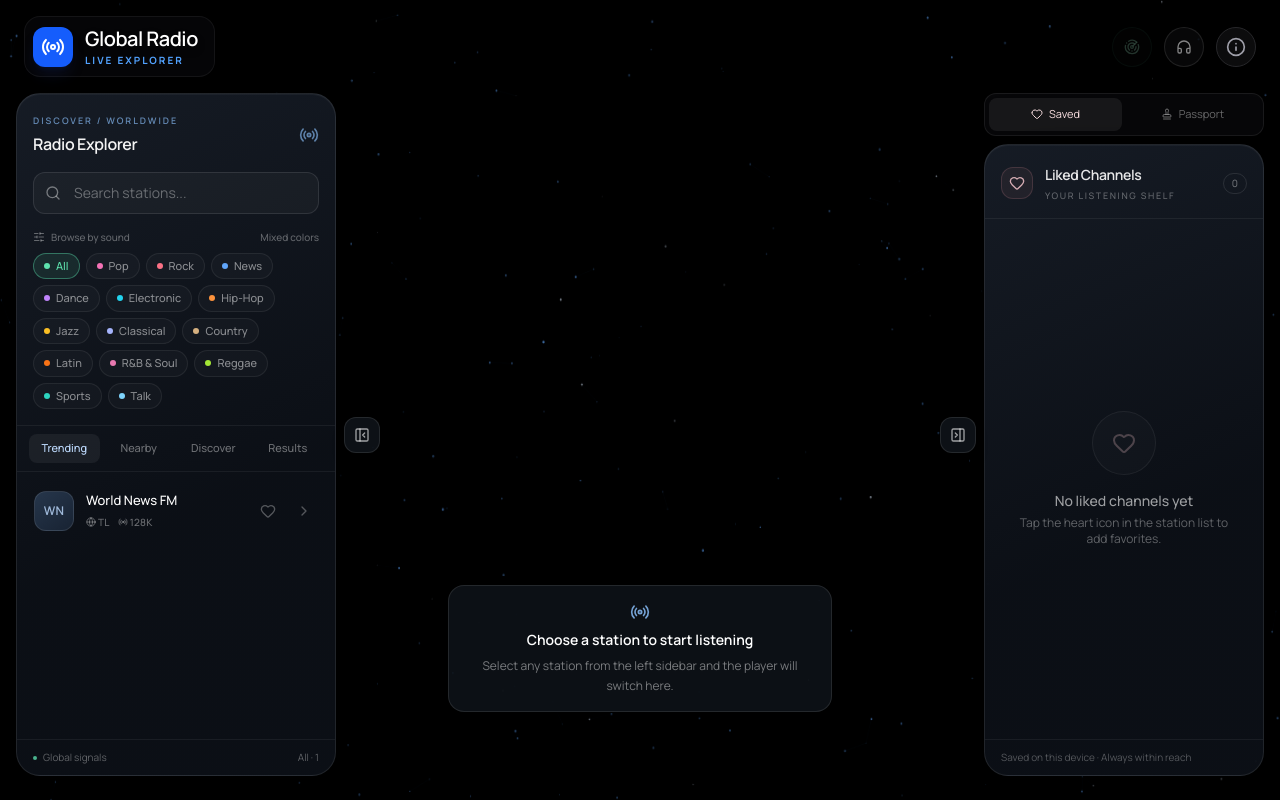
Test: App › keeps the search text and cached results when switching between results and trending
Expected: the heading "World News FM" is shown, [86,491,177,509]
Type "jazz" into the field with placeholder "Search stations..." at (176, 192), box [33,172,319,214]
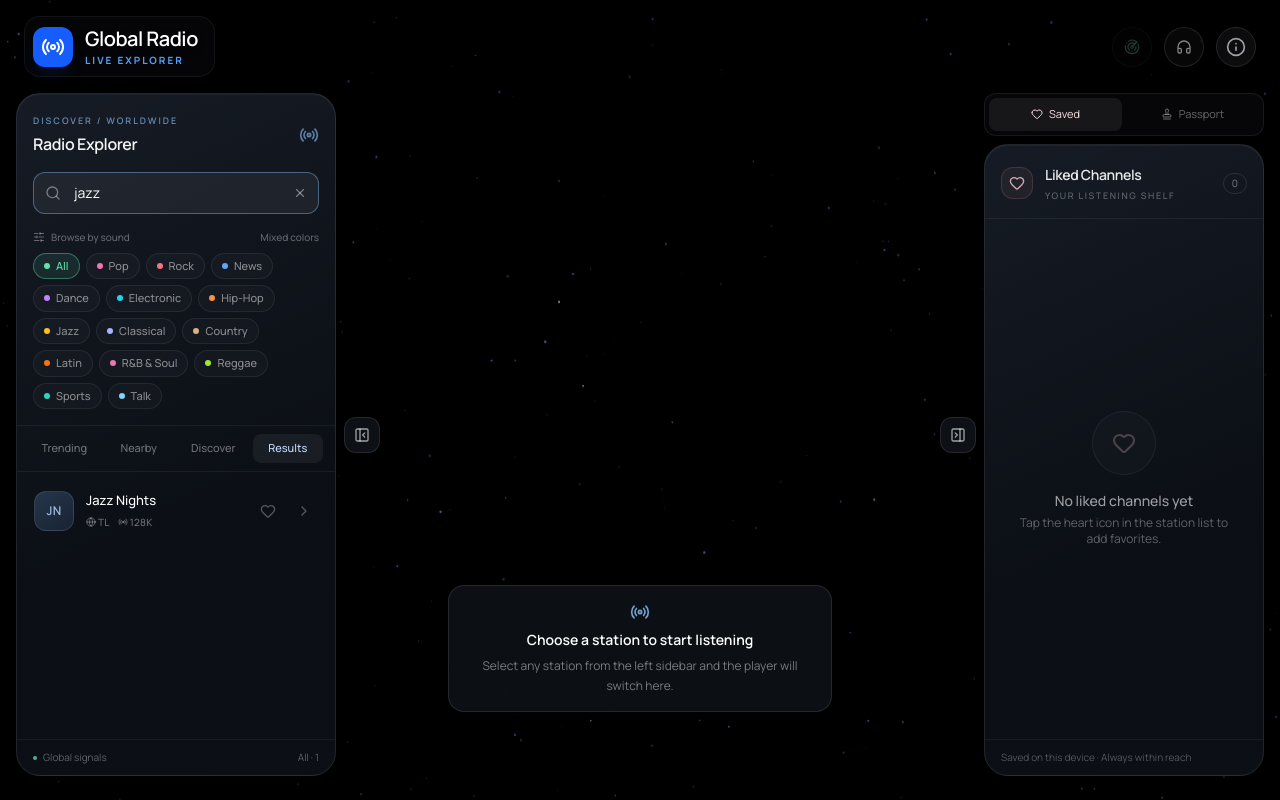
Result: the heading "Jazz Nights" is shown at [86,491,156,509]
Click the button "Trending" at (64, 448), box [29,434,100,462]
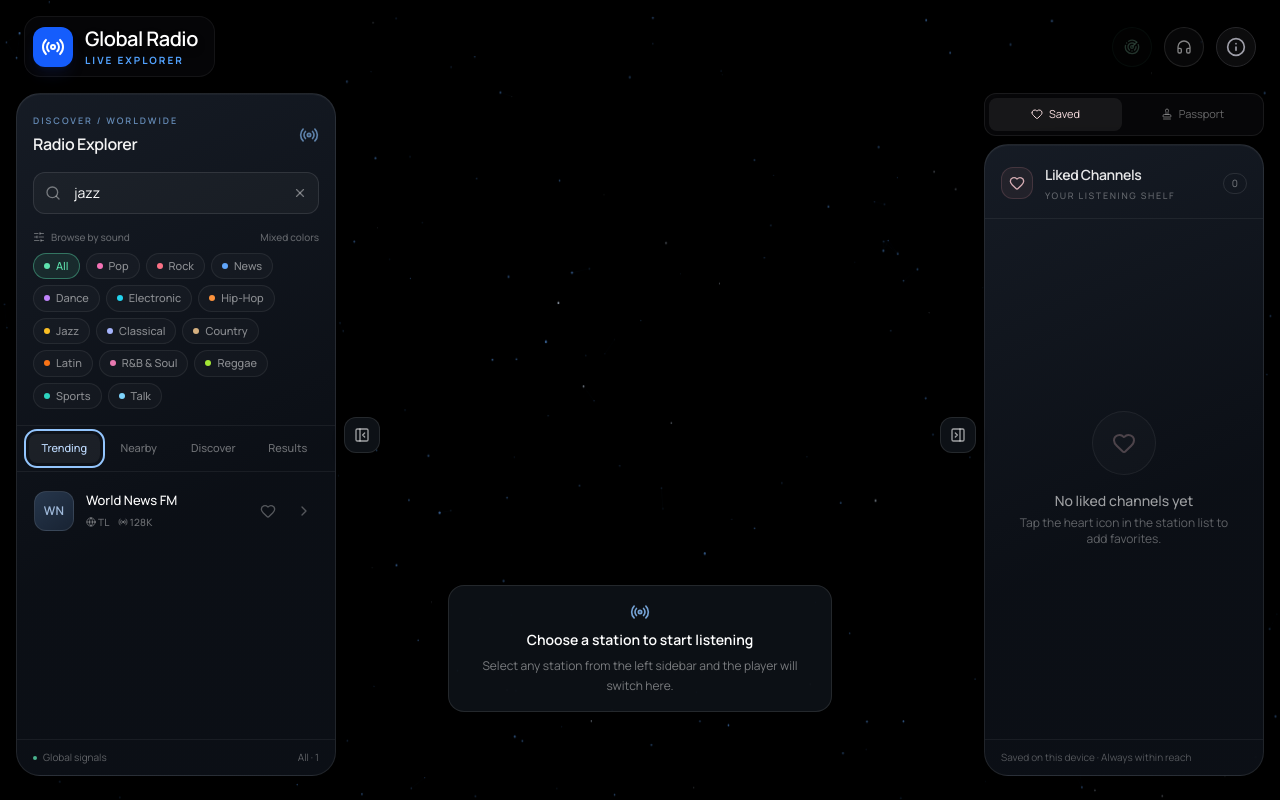
Result: the heading "World News FM" is shown at [86,491,177,509]
Click the button "Results" at (288, 448), box [252,434,323,462]
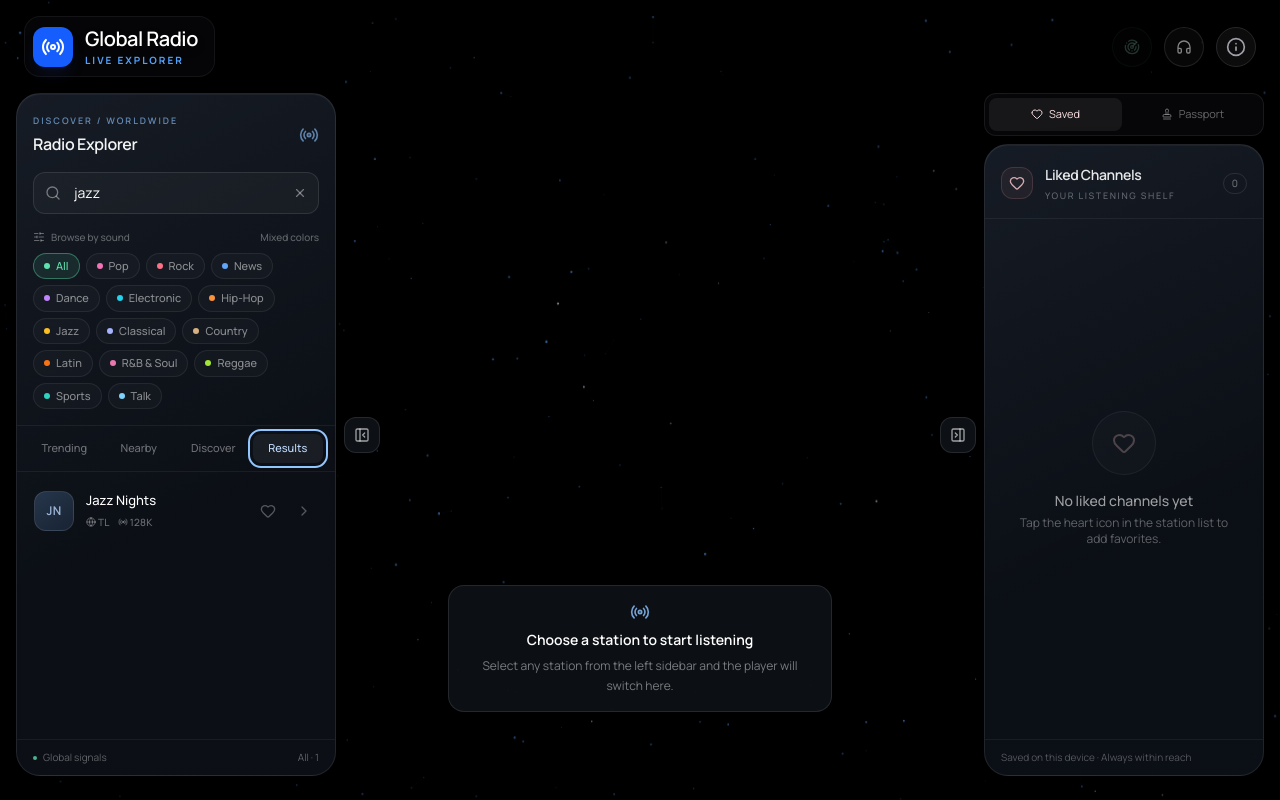
Result: the heading "Jazz Nights" is shown at [86,491,156,509]
Result: the button "World News FM" is gone
